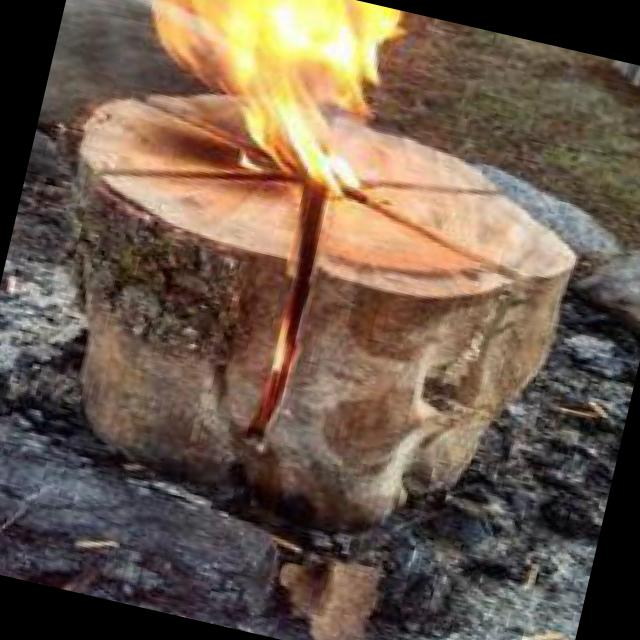fire: (37, 0, 417, 200)
